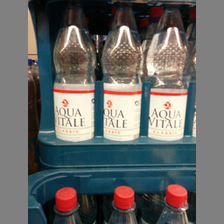water: (52, 1, 97, 142), (146, 4, 191, 139), (100, 5, 143, 142)
